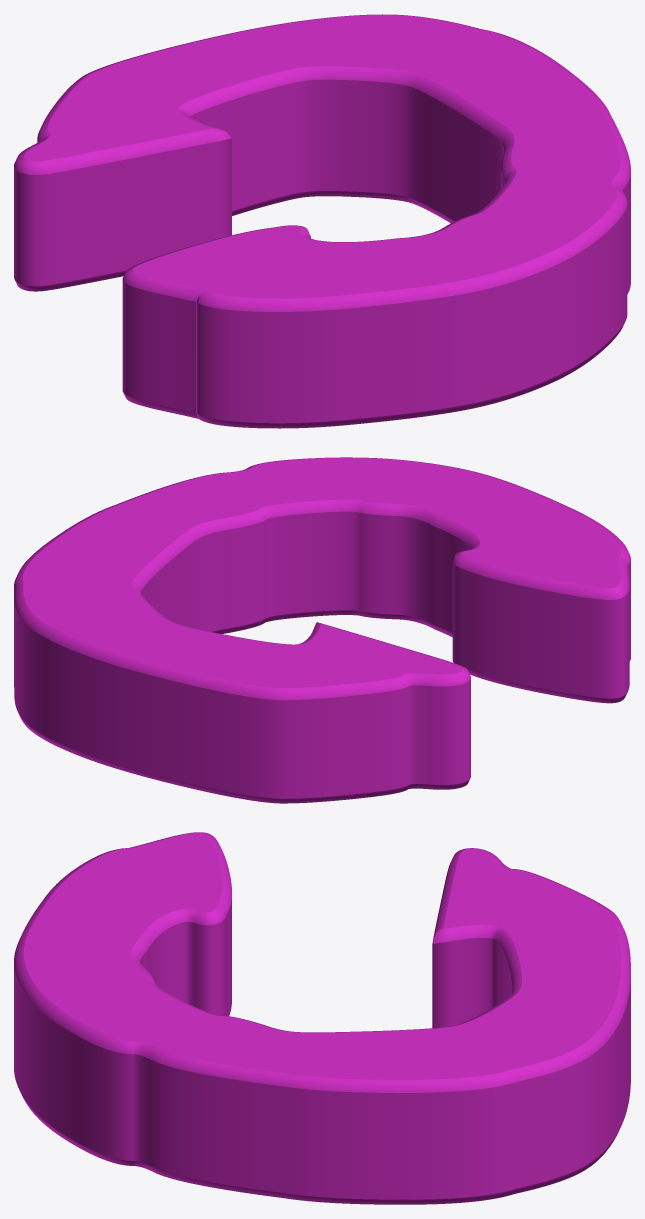
The model's file is Bubble_LetterC.fbx.
The picture shows the model from 3 angles, top to bottom: view 1: azimuth 30°, elevation 25°; view 2: azimuth 150°, elevation 25°; view 3: azimuth 270°, elevation 25°; orthographic projection. The views are drawn at different scales.
Parts seen in each view (by area): view 1: BubbleLetter_C; view 2: BubbleLetter_C; view 3: BubbleLetter_C.
Part boxes in pixels (x1,y1,x2,y2): BubbleLetter_C: (14,14,630,428); BubbleLetter_C: (14,457,630,803); BubbleLetter_C: (14,832,630,1204).
Size of the model in its own units: 0.6169 by 0.14 by 0.629.
